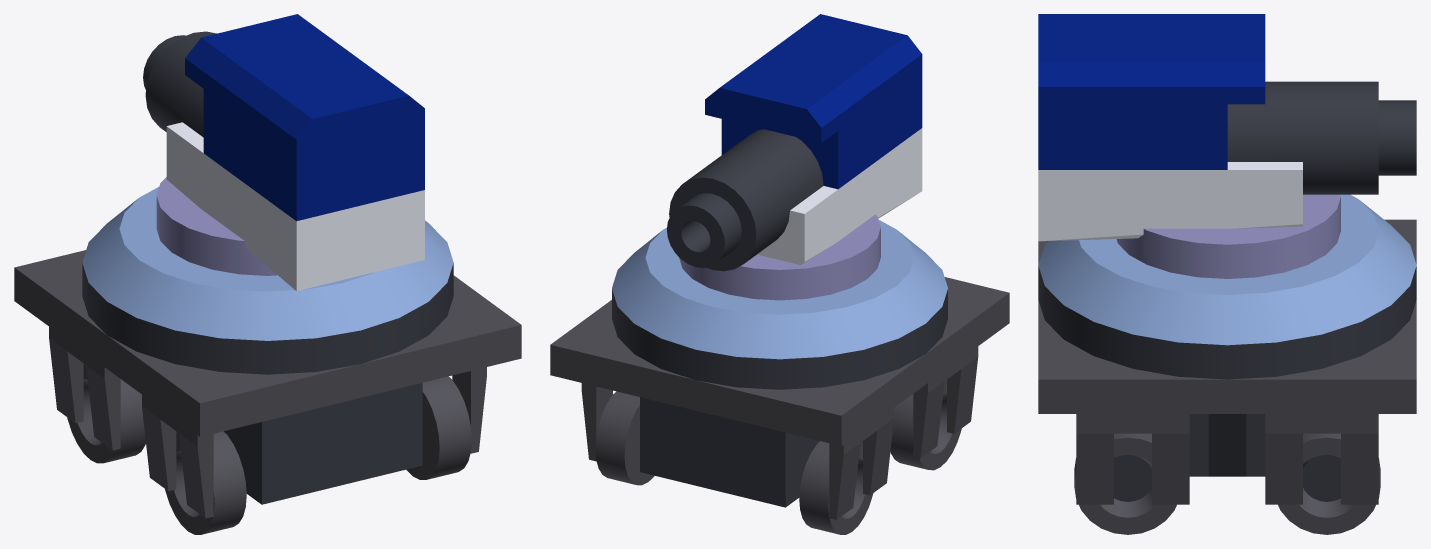
The model's file is blaster-small.glb.
3 views of the same model, side by side, from view 1: azimuth 30°, elevation 25°; view 2: azimuth 150°, elevation 25°; view 3: azimuth 270°, elevation 25° (orthographic). The views are drawn at different scales.
Parts seen in each view (by area): view 1: blaster_barrel, bogie_clamp, tank_turretRing, wheel_small (×2); view 2: blaster_barrel, bogie_clamp, tank_turretRing, wheel_small (×2); view 3: blaster_barrel, tank_turretRing, bogie_clamp, wheel_small (×2).
Boxes of the visible parts, x1,y1,x2,y2 form: blaster_barrel: (143, 14, 424, 291); bogie_clamp: (14, 250, 521, 518); tank_turretRing: (82, 177, 453, 374); wheel_small (×2): (67, 364, 471, 534); blaster_barrel: (667, 14, 922, 271); bogie_clamp: (550, 277, 1009, 519); tank_turretRing: (612, 214, 947, 389); wheel_small (×2): (595, 380, 961, 534); blaster_barrel: (1038, 14, 1416, 241); tank_turretRing: (1038, 194, 1416, 379); bogie_clamp: (1038, 219, 1416, 504); wheel_small (×2): (1074, 433, 1380, 534).
Bounding box in the file's own units: 0.38 × 0.48 × 0.38.
